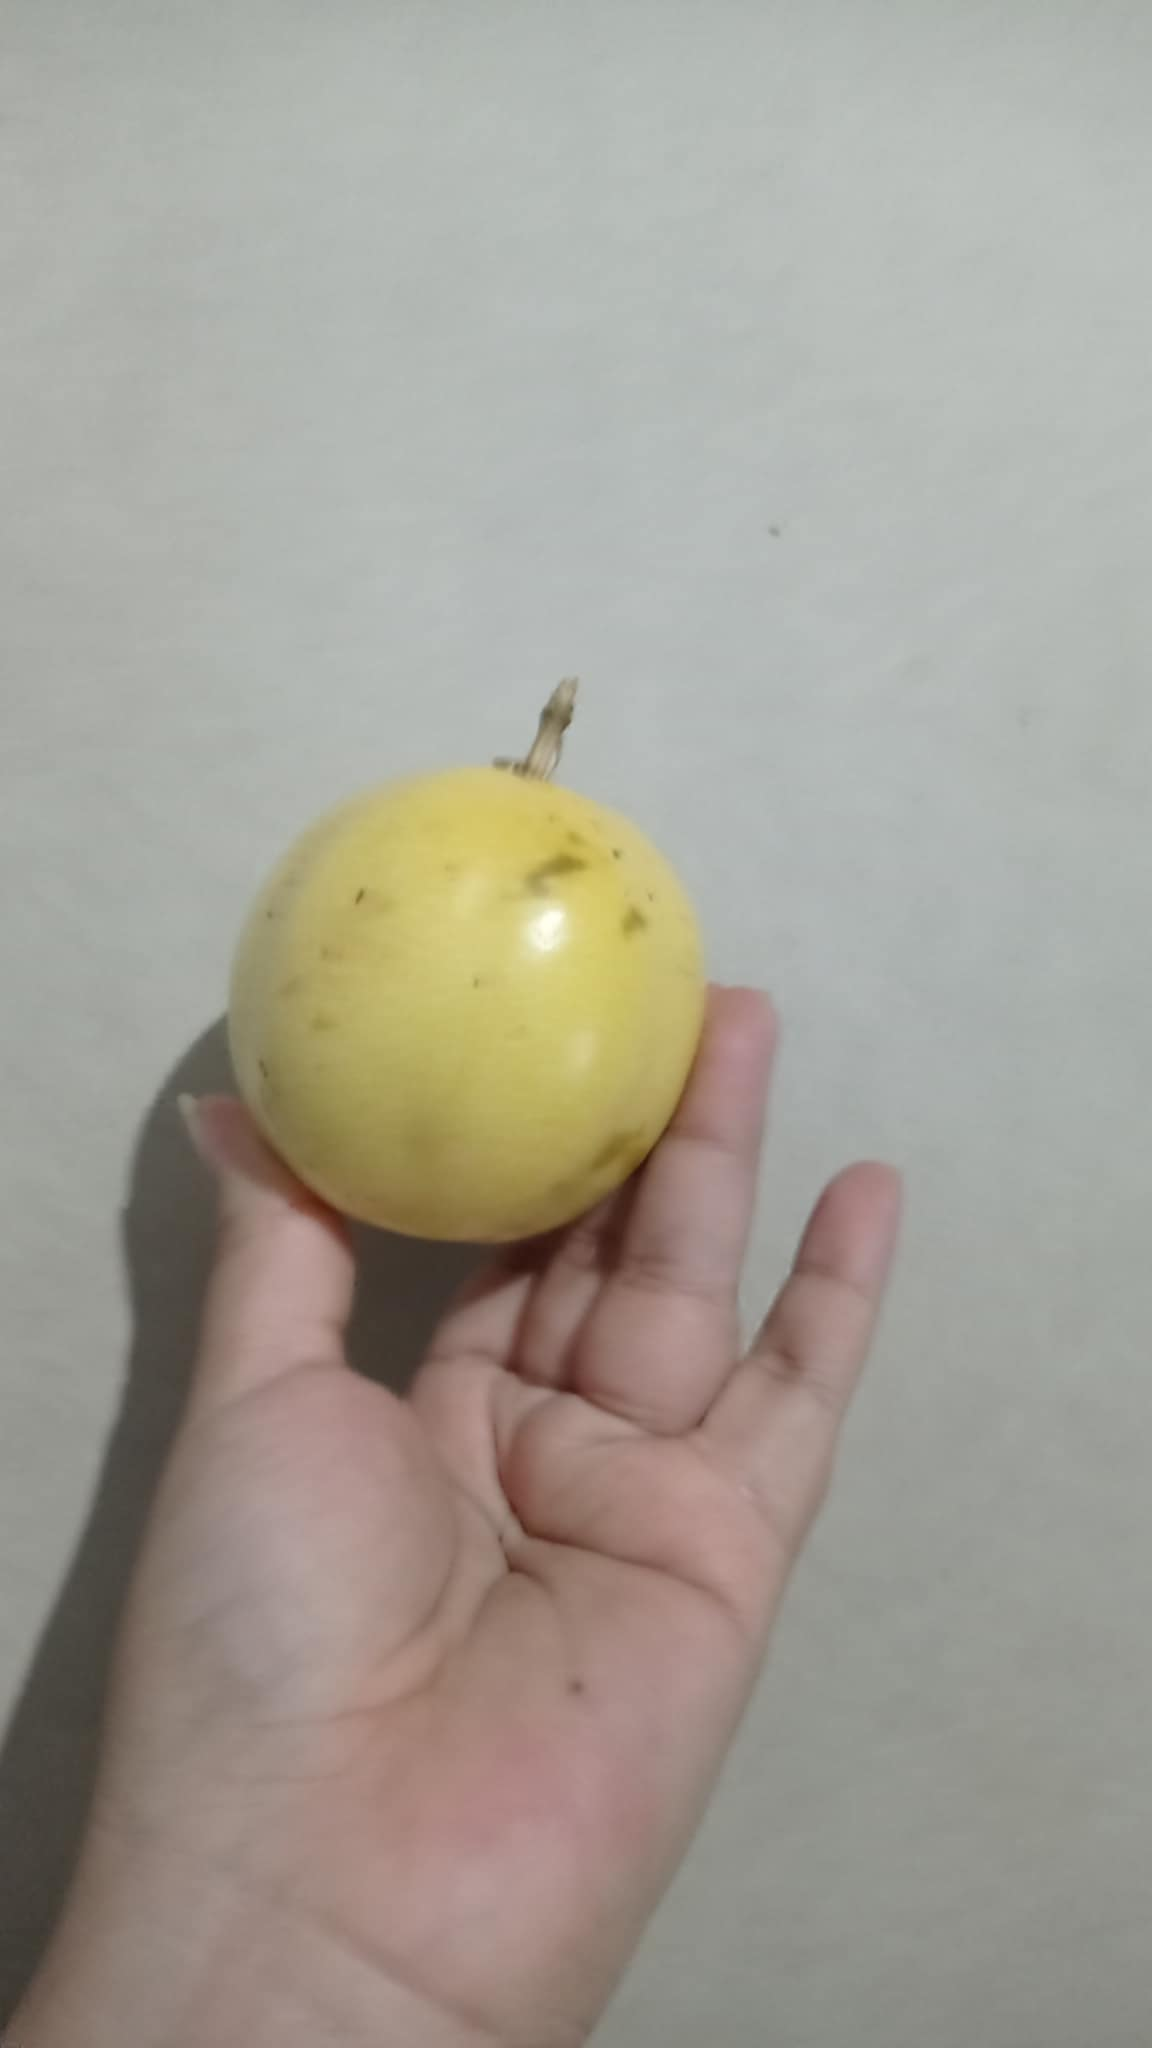maracuya: (229, 654, 720, 1272)
